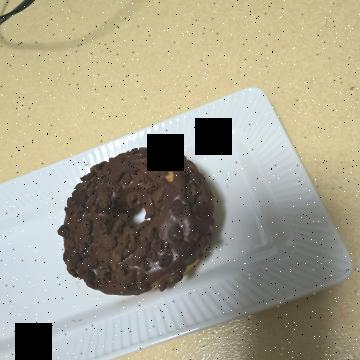doughnut: (131, 131, 298, 318)
